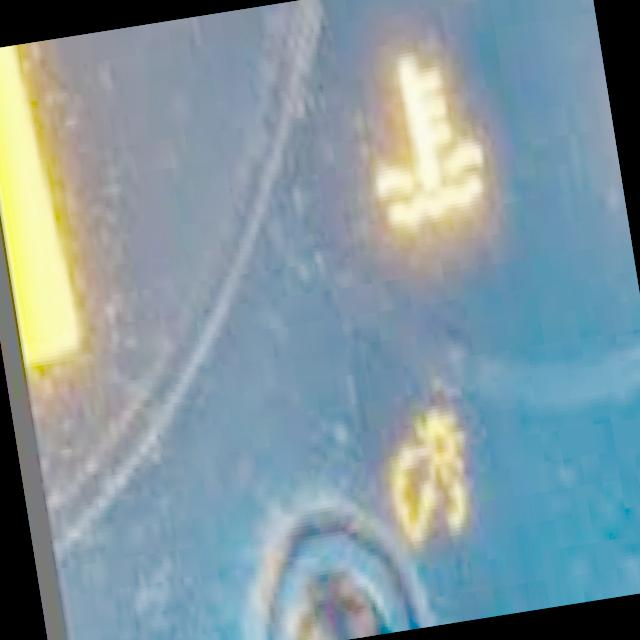kontrolka: (330, 15, 508, 238)
